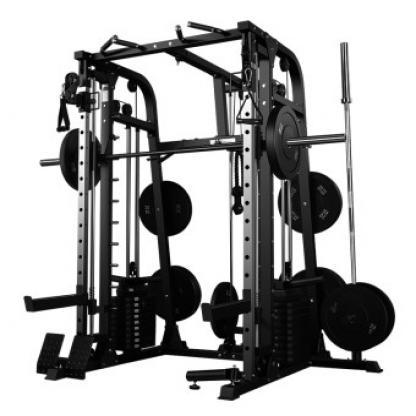smith machine: (36, 20, 396, 403)
